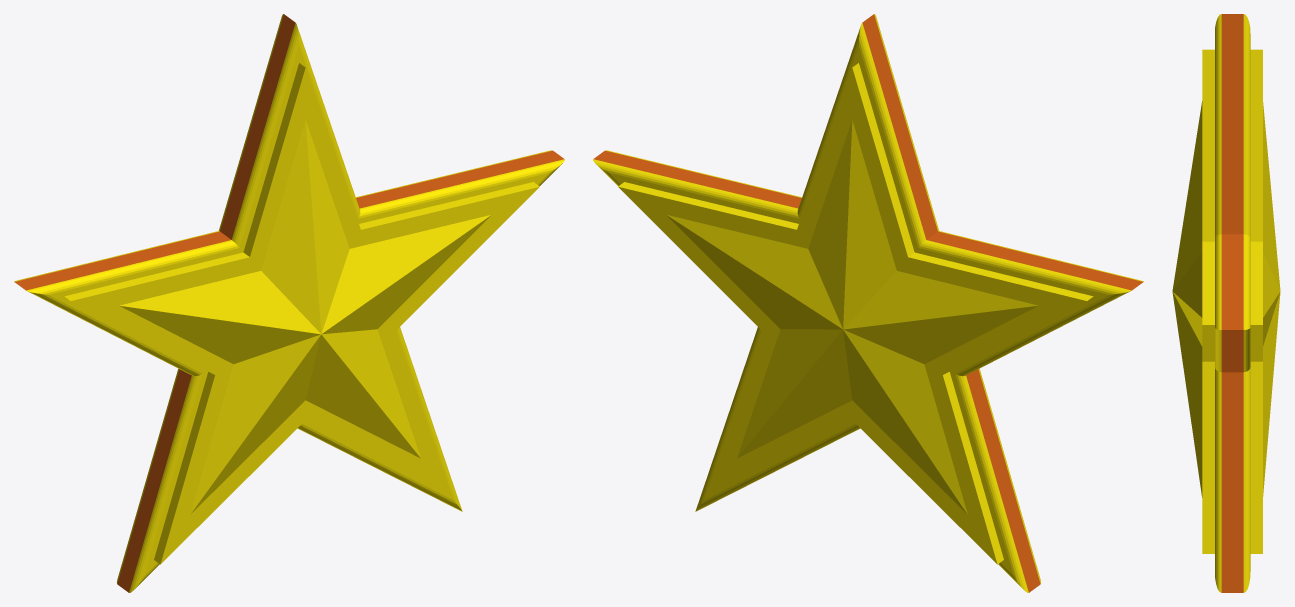
The model's file is Star.fbx.
3 renders of one model, left to right at view 1: azimuth 30°, elevation 25°; view 2: azimuth 150°, elevation 25°; view 3: azimuth 270°, elevation 25°, orthographic. The views are drawn at different scales.
Visible parts, largest first — view 1: Star; view 2: Star; view 3: Star.
Part boxes in pixels (x1,y1,x2,y2): Star: (14, 14, 564, 592); Star: (593, 14, 1143, 592); Star: (1172, 14, 1280, 592).
Bounding box in the file's own units: 1.25 × 1.17 × 0.2289.
